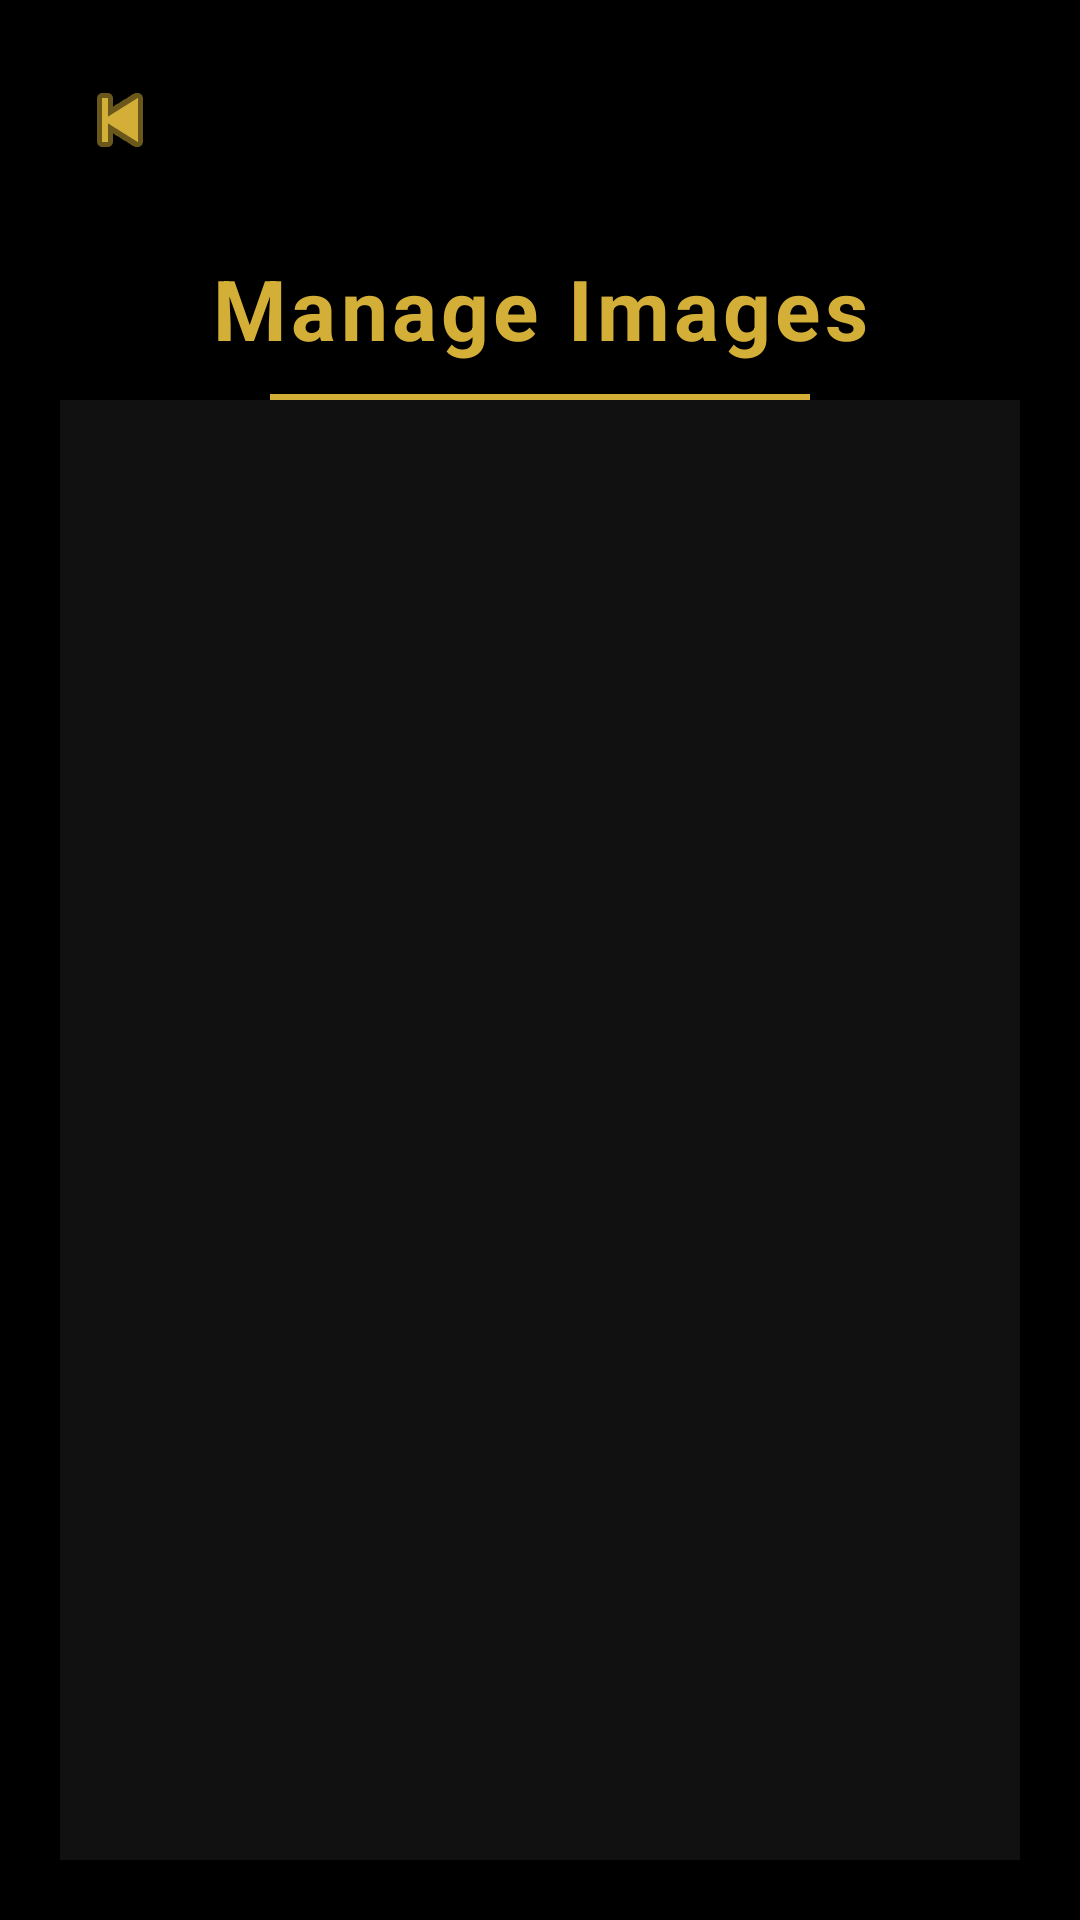

Icon bounding boxes for this 1080px×1920px phone screenshot, format (x1, y1, x2, y2):
previous: (97, 93, 143, 147)
